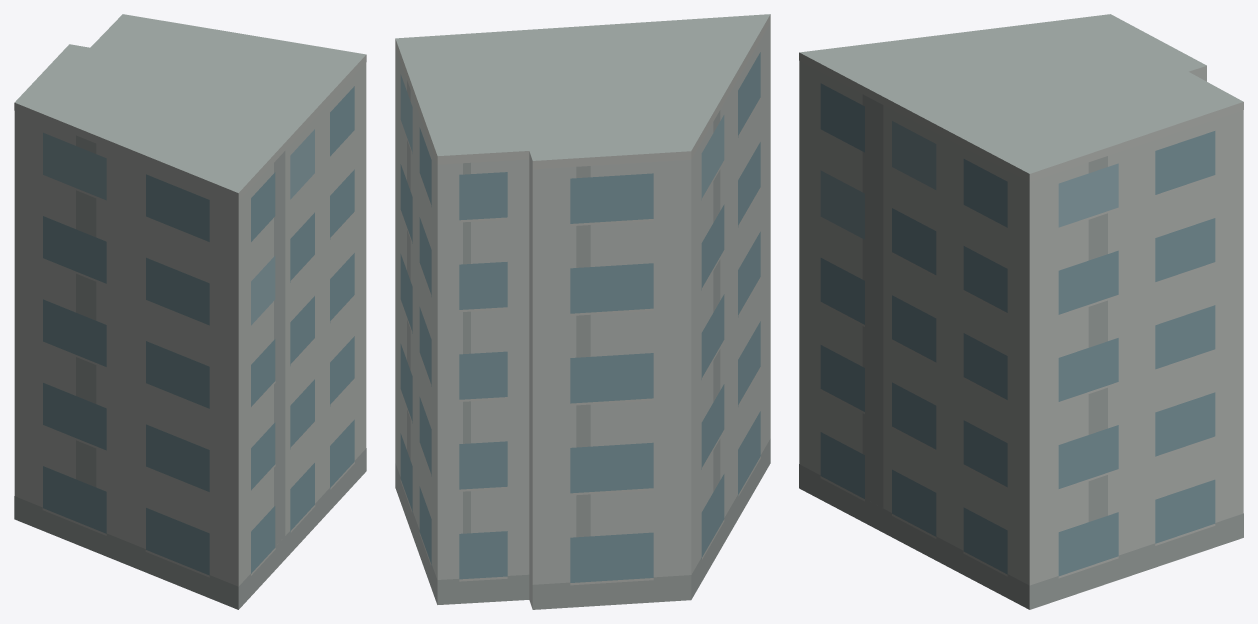
File: survey-upis-32748059.glb
3 views of the same model, side by side, from view 1: azimuth 30°, elevation 25°; view 2: azimuth 150°, elevation 25°; view 3: azimuth 270°, elevation 25° (orthographic). The views are drawn at different scales.
Parts seen in each view (by area): view 1: survey-upis-32748059.tmp; view 2: survey-upis-32748059.tmp; view 3: survey-upis-32748059.tmp.
Boxes of the visible parts, left/top/right/bottom form: survey-upis-32748059.tmp: left=14, top=14, right=366, bottom=609; survey-upis-32748059.tmp: left=395, top=14, right=770, bottom=609; survey-upis-32748059.tmp: left=799, top=14, right=1243, bottom=609.
Size of the model in its own units: 10.08 by 12.8 by 11.84.
